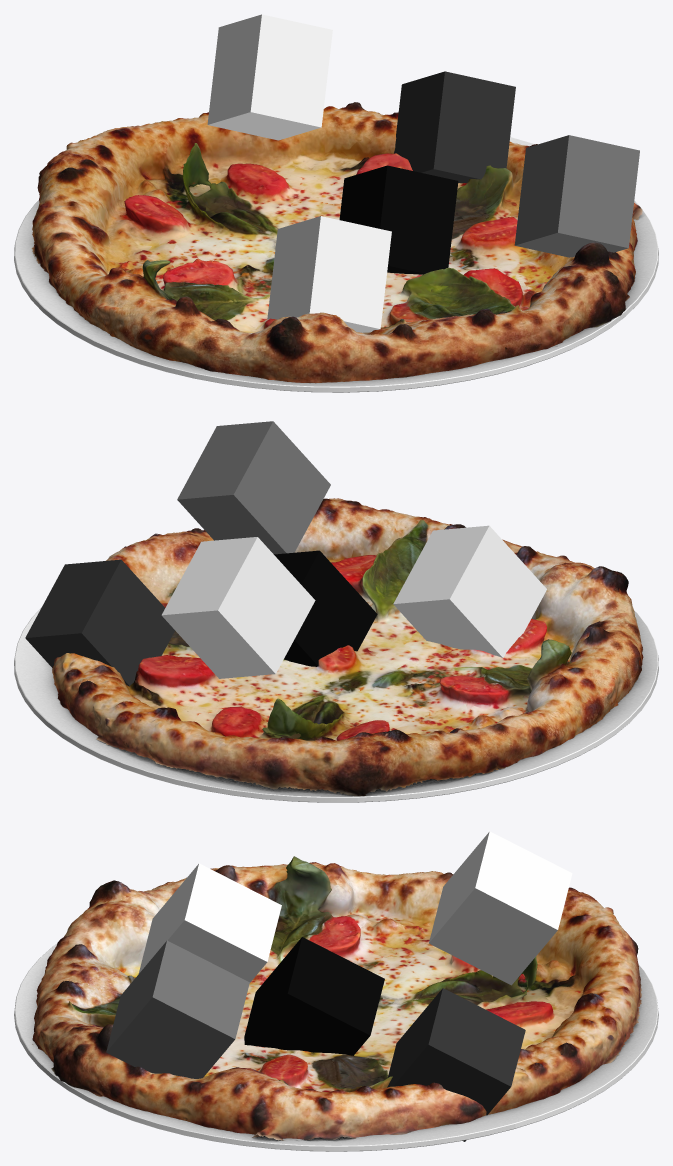
The model's file is Plato_05.glb.
3 views of the same model, one above another, from view 1: azimuth 30°, elevation 25°; view 2: azimuth 150°, elevation 25°; view 3: azimuth 270°, elevation 25° (orthographic).
Visible parts, largest first — view 1: PizzaBurrataOriDecimate, Cube.003, Cube.004, PizzaBurrataFlatPlate, Cube, Cube.001, Cube.002; view 2: PizzaBurrataOriDecimate, Cube.003, PizzaBurrataFlatPlate, Cube, Cube.004, Cube.001, Cube.002; view 3: PizzaBurrataOriDecimate, Cube.003, PizzaBurrataFlatPlate, Cube.004, Cube.002, Cube.001, Cube.
Boxes of the visible parts, x1,y1,x2,y2 form: PizzaBurrataOriDecimate: [31, 102, 642, 383]; Cube.003: [207, 14, 332, 140]; Cube.004: [514, 135, 639, 257]; PizzaBurrataFlatPlate: [14, 137, 658, 392]; Cube: [267, 216, 391, 332]; Cube.001: [394, 71, 515, 183]; Cube.002: [339, 165, 458, 274]; PizzaBurrataOriDecimate: [52, 498, 643, 796]; Cube.003: [161, 537, 315, 678]; PizzaBurrataFlatPlate: [14, 607, 658, 802]; Cube: [393, 525, 546, 657]; Cube.004: [177, 421, 330, 554]; Cube.001: [25, 559, 174, 686]; Cube.002: [274, 550, 377, 666]; PizzaBurrataOriDecimate: [32, 856, 641, 1140]; Cube.003: [429, 831, 572, 985]; PizzaBurrataFlatPlate: [14, 943, 658, 1151]; Cube.004: [106, 940, 249, 1078]; Cube.002: [244, 937, 384, 1055]; Cube.001: [387, 988, 525, 1141]; Cube: [138, 863, 281, 982].
Bounding box in the file's own units: 0.26 × 0.1027 × 0.26.
7 materials, 2 textured.
